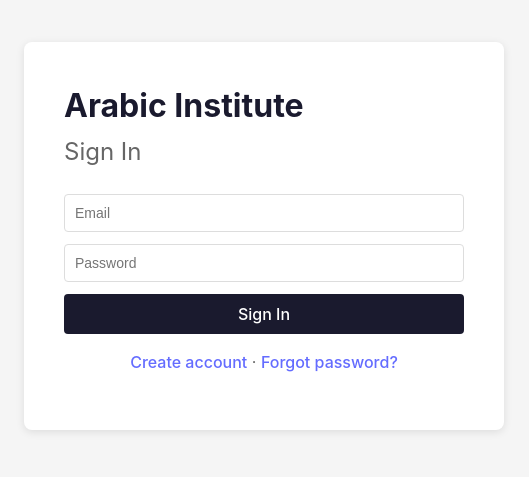
LoginPage › shows error message on failed login
Type "wrong@test.com" into the field with placeholder "Email" at (264, 213), box [64,194,464,232]
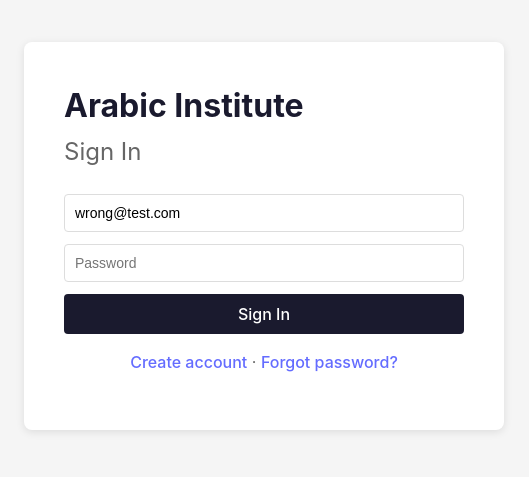
Type "wrongpassword" into the password field with placeholder "Password" at (264, 263), box [64,244,464,282]
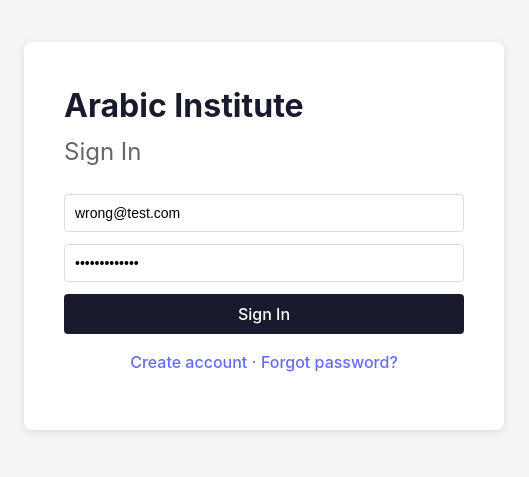
Click the button "Sign In" at (264, 314), box [64,294,464,334]
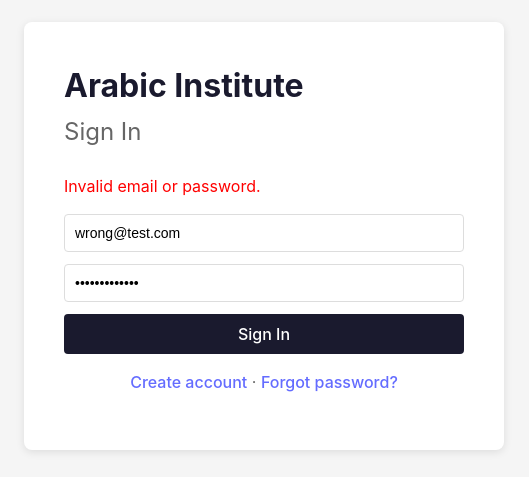
expect the text "Invalid email or password." is shown: met, box [64,176,260,196]
